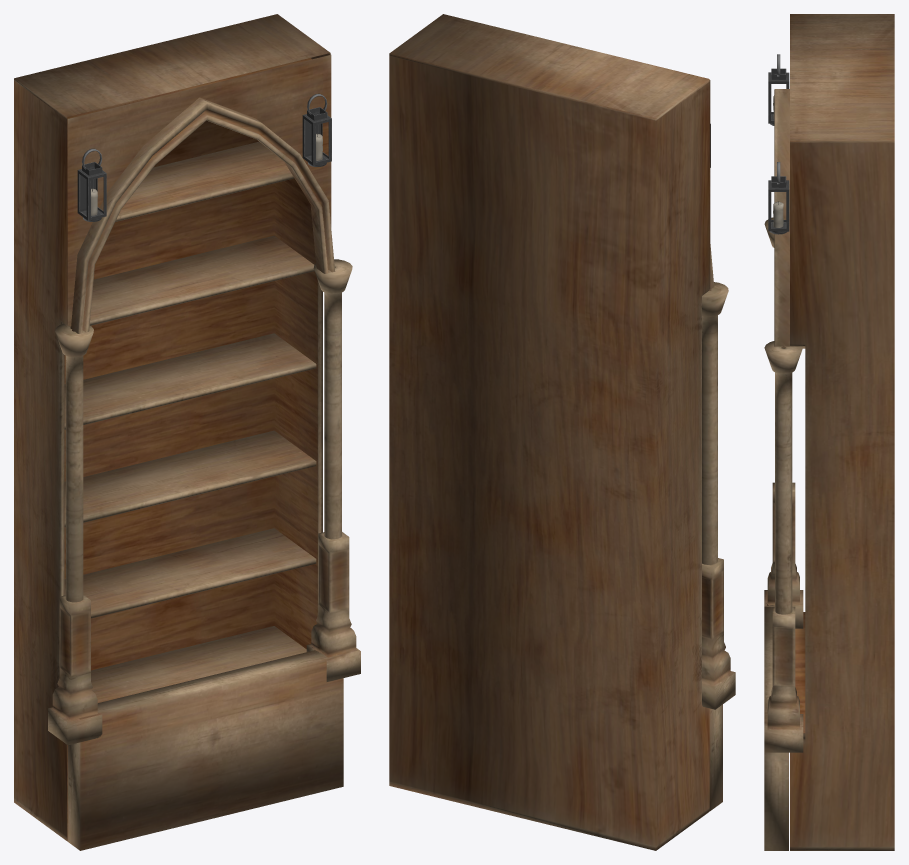
Rendered from Book_Box.fbx.
The picture shows the model from 3 angles, left to right: view 1: azimuth 30°, elevation 25°; view 2: azimuth 150°, elevation 25°; view 3: azimuth 270°, elevation 25°; orthographic projection. The views are drawn at different scales.
Parts seen in each view (by area): view 1: defaultMaterial.005; view 2: defaultMaterial.005; view 3: defaultMaterial.005.
Part boxes in pixels (x1,y1,x2,y2): defaultMaterial.005: (14,14,360,850); defaultMaterial.005: (389,14,735,850); defaultMaterial.005: (764,14,894,850).
Bounding box in the file's own units: 45.38 × 107 × 17.74.
